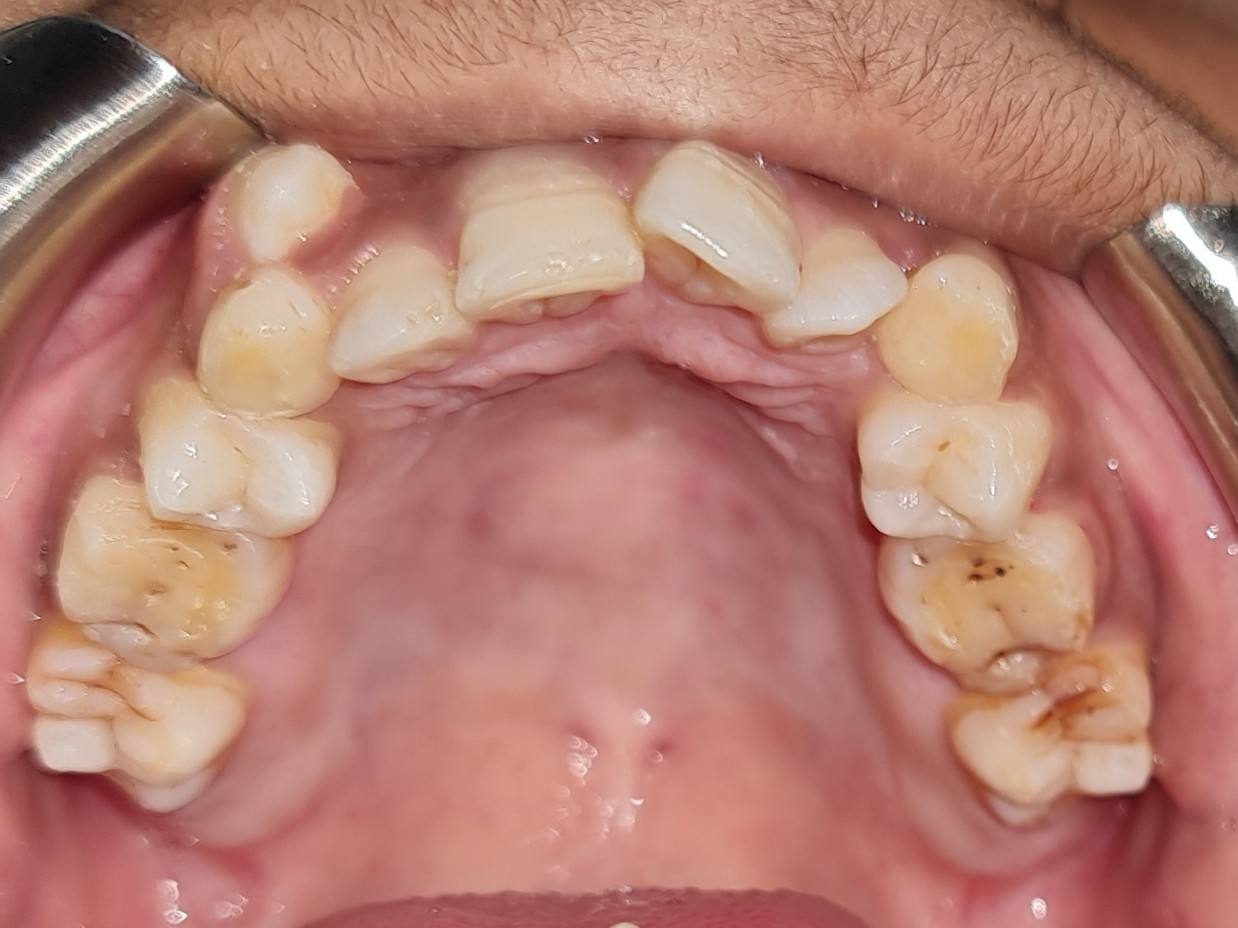D: (951, 647, 1162, 823)
d: (49, 470, 294, 670), (872, 517, 1100, 690)
